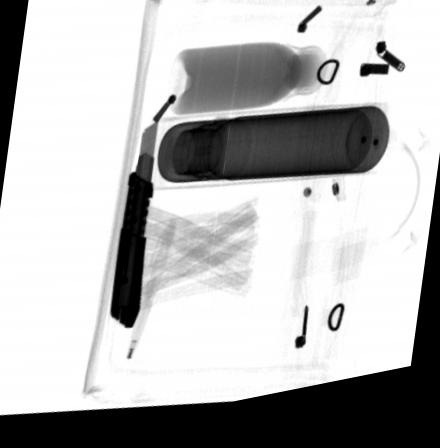Knife: (109, 127, 158, 334)
